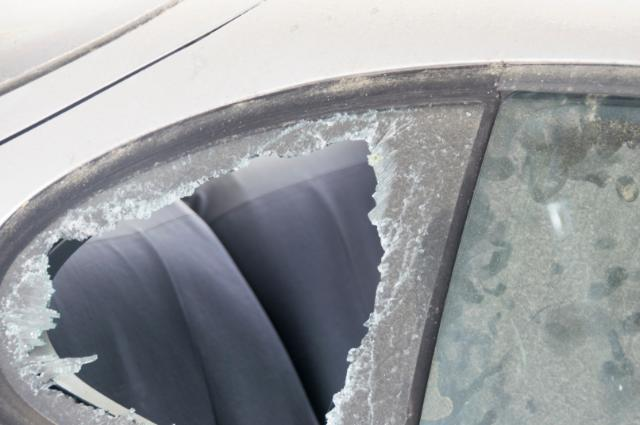Fender: (13, 59, 427, 425)
